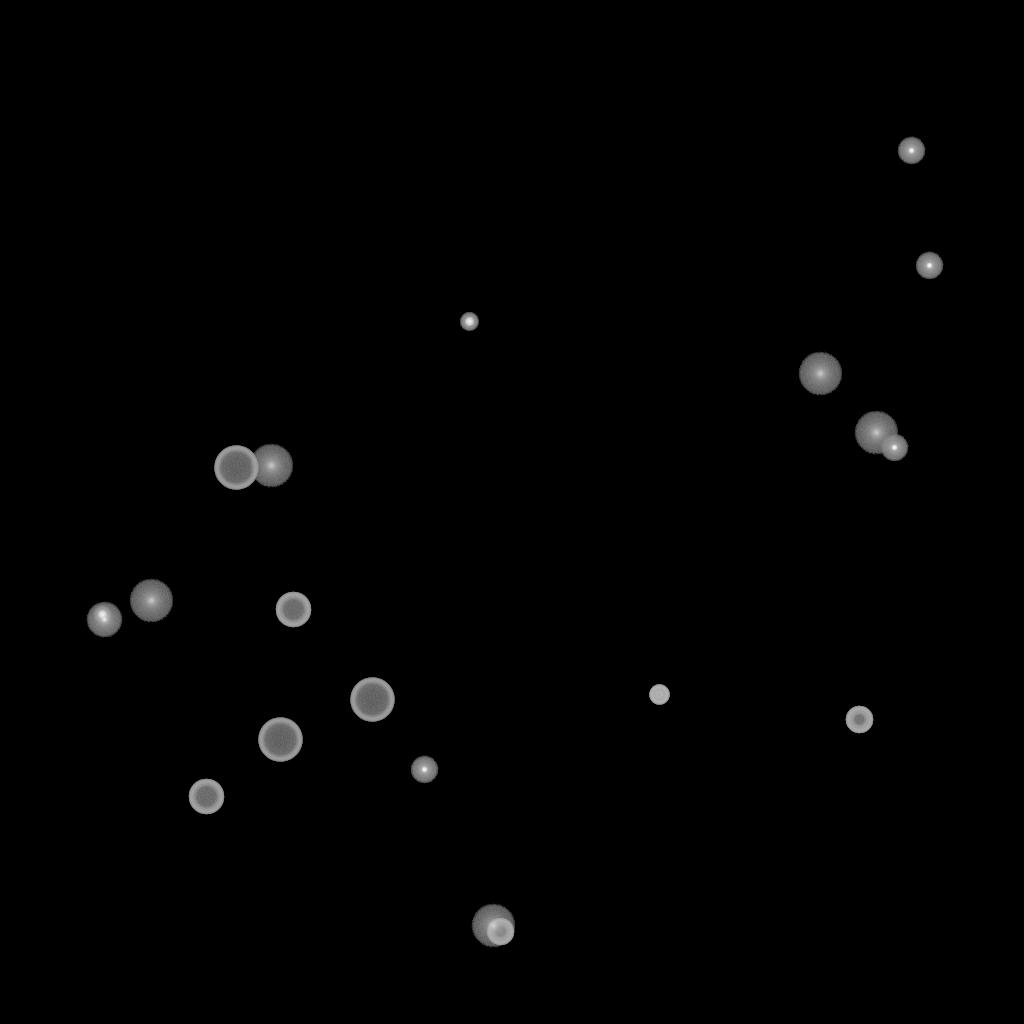depth:-10: (410, 756, 438, 784), (897, 137, 925, 165), (915, 252, 943, 280), (880, 434, 908, 462)
depth:-20: (93, 606, 111, 624), (460, 313, 478, 331)
depth:-40: (649, 685, 669, 705)
depth:-50: (845, 706, 873, 734), (486, 918, 514, 946)
depth:-60: (275, 592, 311, 628), (188, 779, 224, 815)
depth:-70: (214, 446, 258, 490), (258, 718, 302, 762), (350, 678, 394, 722)
depth:0: (86, 602, 122, 638)
depth:10: (854, 411, 898, 455), (471, 904, 515, 948), (798, 352, 842, 396), (249, 444, 293, 488), (129, 579, 173, 623)
